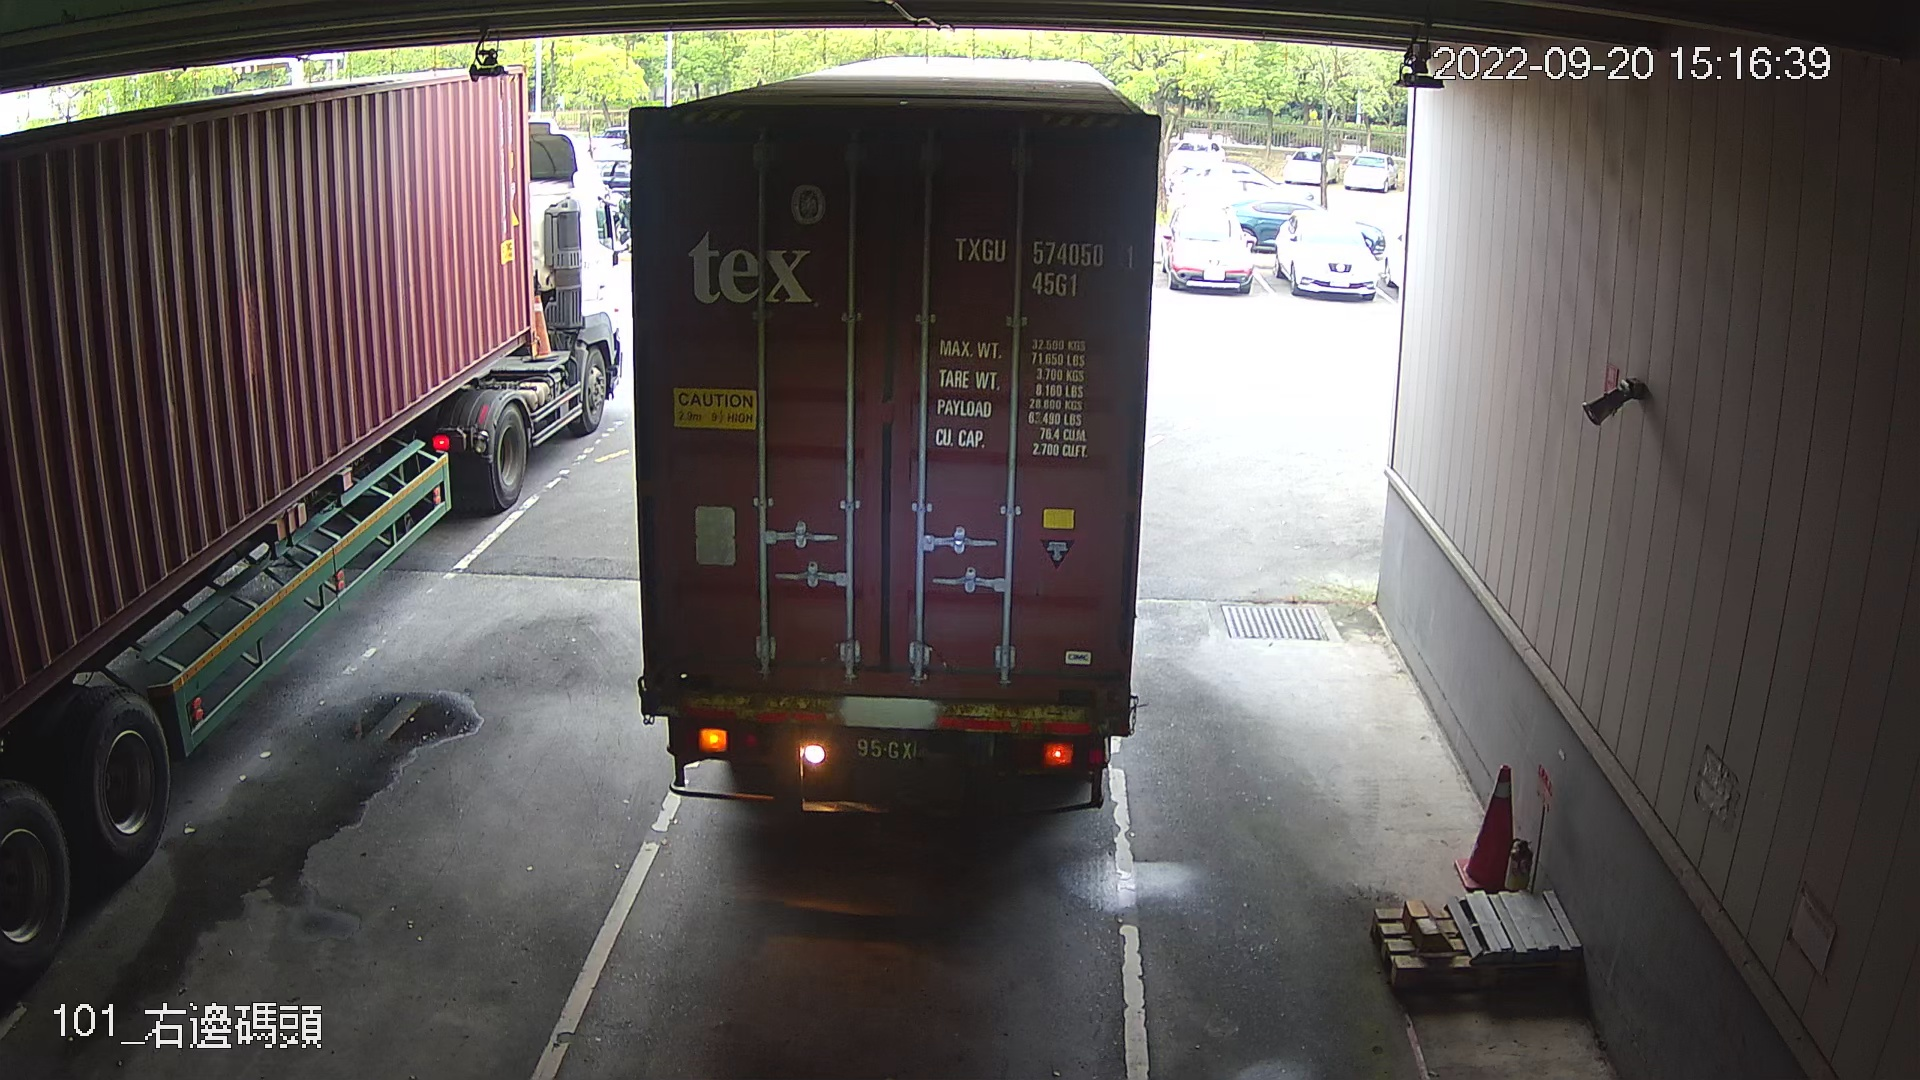container: (939, 224, 1142, 309)
